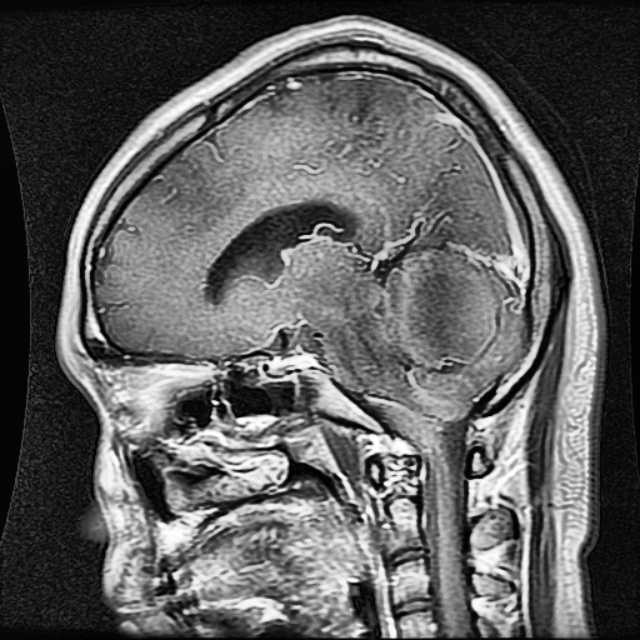Meningioma: (389, 248, 500, 420)
